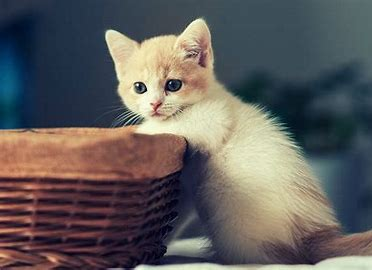cat: (95, 25, 272, 122)
